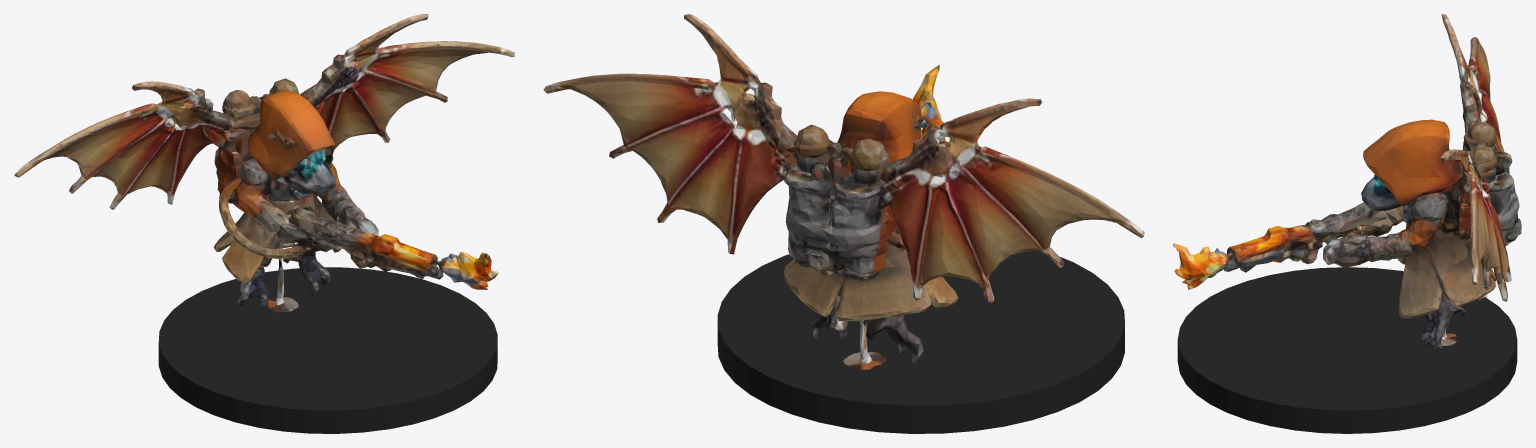
The model's file is pteraxii-sterylizor.glb.
3 renders of one model, left to right at view 1: azimuth 30°, elevation 25°; view 2: azimuth 150°, elevation 25°; view 3: azimuth 270°, elevation 25°, orthographic. The views are drawn at different scales.
Parts seen in each view (by area): view 1: figure, base; view 2: figure, base; view 3: base, figure.
Boxes of the visible parts, bbox=[...] form: figure: bbox=[14, 14, 514, 312]; base: bbox=[158, 267, 497, 433]; figure: bbox=[543, 14, 1144, 369]; base: bbox=[717, 250, 1124, 433]; base: bbox=[1177, 267, 1517, 433]; figure: bbox=[1173, 14, 1521, 350].
Bounding box in the file's own units: 2.67 × 1.42 × 1.62.
Materials: 2 (1 with a texture image).
